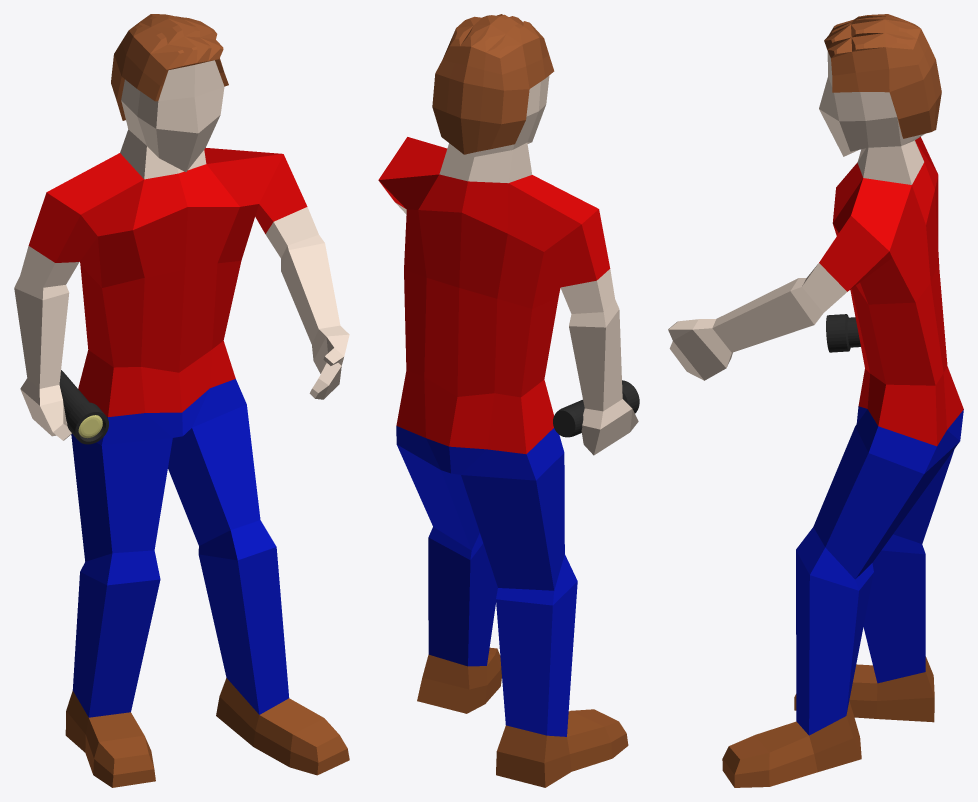
Rendered from Human_grabbing_44.fbx.
3 views of the same model, side by side, from view 1: azimuth 30°, elevation 25°; view 2: azimuth 150°, elevation 25°; view 3: azimuth 270°, elevation 25° (orthographic).
Visible parts, largest first — view 1: Person.003, Cylinder.002; view 2: Person.003, Cylinder.002; view 3: Person.003, Cylinder.002.
Part boxes in pixels (x1=…): Person.003: x1=14, y1=14, x2=349, y2=787; Cylinder.002: x1=59, y1=370, x2=108, y2=444; Person.003: x1=378, y1=14, x2=638, y2=787; Cylinder.002: x1=553, y1=380, x2=639, y2=437; Person.003: x1=668, y1=14, x2=963, y2=787; Cylinder.002: x1=826, y1=314, x2=860, y2=352.
Size of the model in its own units: 0.5687 by 1.57 by 0.5844.
